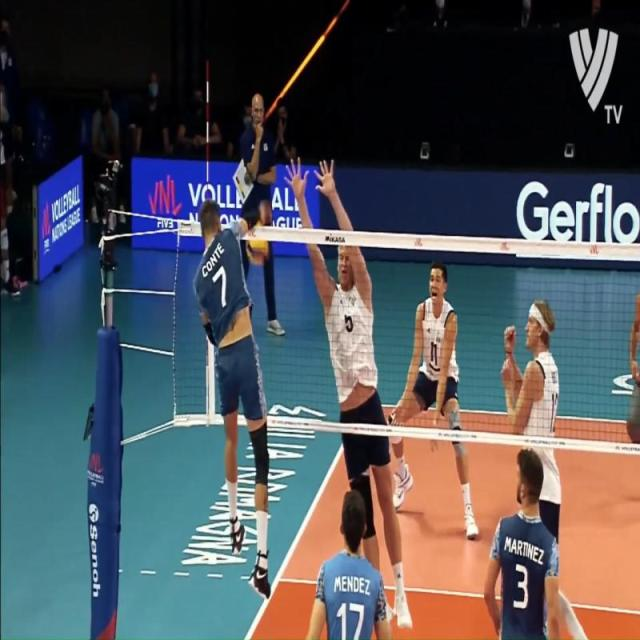volleyball: (246, 224, 270, 268)
